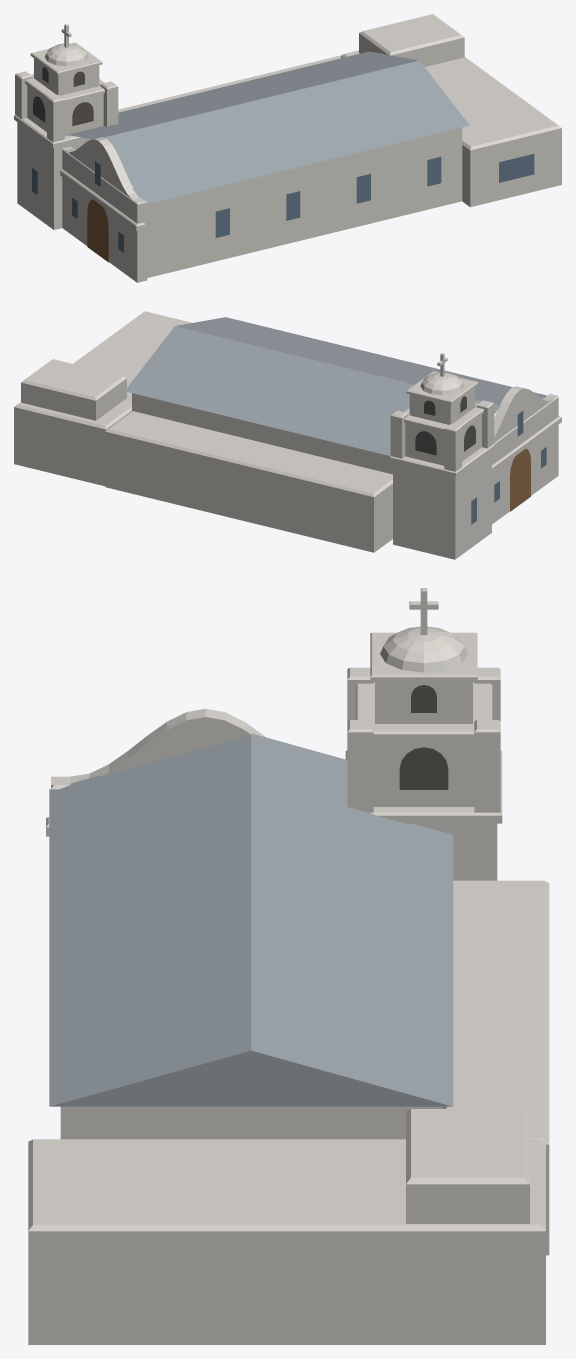
The model's file is phx-old-adobe-mission.glb.
The picture shows the model from 3 angles, top to bottom: view 1: azimuth 30°, elevation 25°; view 2: azimuth 150°, elevation 25°; view 3: azimuth 270°, elevation 25°; orthographic projection. The views are drawn at different scales.
Parts seen in each view (by area): view 1: Old Adobe Mission; view 2: Old Adobe Mission; view 3: Old Adobe Mission.
Part boxes in pixels (x1,y1,x2,y2): Old Adobe Mission: [14, 14, 561, 282]; Old Adobe Mission: [14, 311, 561, 559]; Old Adobe Mission: [28, 588, 549, 1344].
Bounding box in the file's own units: 30.45 × 12.5 × 16.05.
